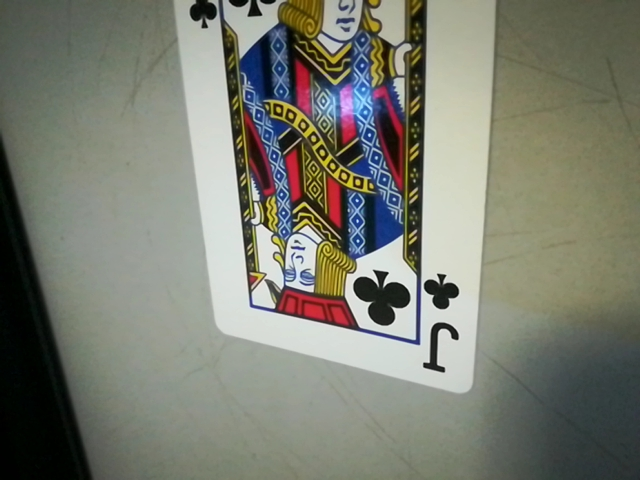mh j: (414, 266, 475, 384)
